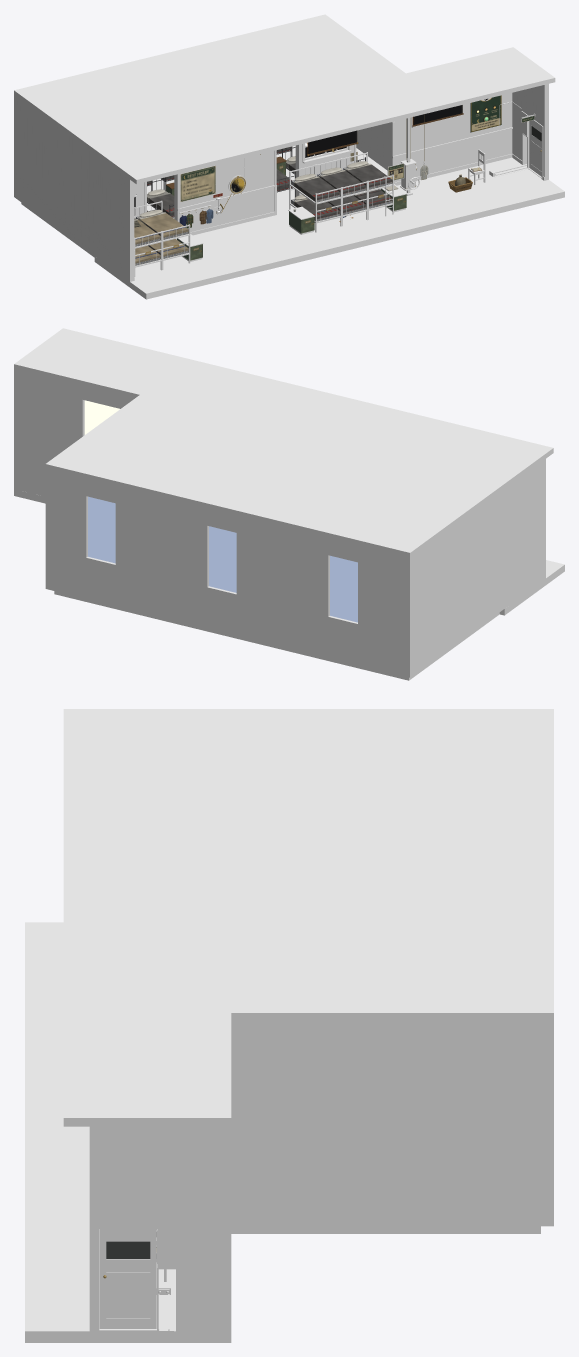
3 renders of one model, top to bottom at view 1: azimuth 30°, elevation 25°; view 2: azimuth 150°, elevation 25°; view 3: azimuth 270°, elevation 25°, orthographic. The views are drawn at different scales.
Visible parts, largest first — view 1: Att14aSet, Att14aWard, Att14aWardBed03, Att14aDoor, Att14aBlindW1, Att14aBlindW2, Att14aWardBed06; view 2: Att14aWard, Att14aSet, Att14aWardNight, Att14aCorridorGlow; view 3: Att14aWard, Att14aSet, Att14aDoor.
Part boxes in pixels (left/top/right/bottom): Att14aSet: left=94, top=47, right=564, bottom=299; Att14aWard: left=14, top=14, right=405, bottom=257; Att14aWardBed03: left=147, top=177, right=174, bottom=217; Att14aDoor: left=529, top=120, right=541, bottom=176; Att14aBlindW1: left=307, top=130, right=357, bottom=154; Att14aBlindW2: left=412, top=105, right=463, bottom=126; Att14aWardBed06: left=276, top=156, right=295, bottom=197; Att14aWard: left=45, top=395, right=504, bottom=680; Att14aSet: left=14, top=328, right=564, bottom=615; Att14aWardNight: left=88, top=496, right=357, bottom=622; Att14aCorridorGlow: left=84, top=400, right=119, bottom=434; Att14aWard: left=231, top=709, right=553, bottom=1233; Att14aSet: left=25, top=709, right=231, bottom=1342; Att14aDoor: left=99, top=1229, right=156, bottom=1328.
Size of the model in its own units: 15 by 3.85 by 8.2.
27 materials, 2 textured.
